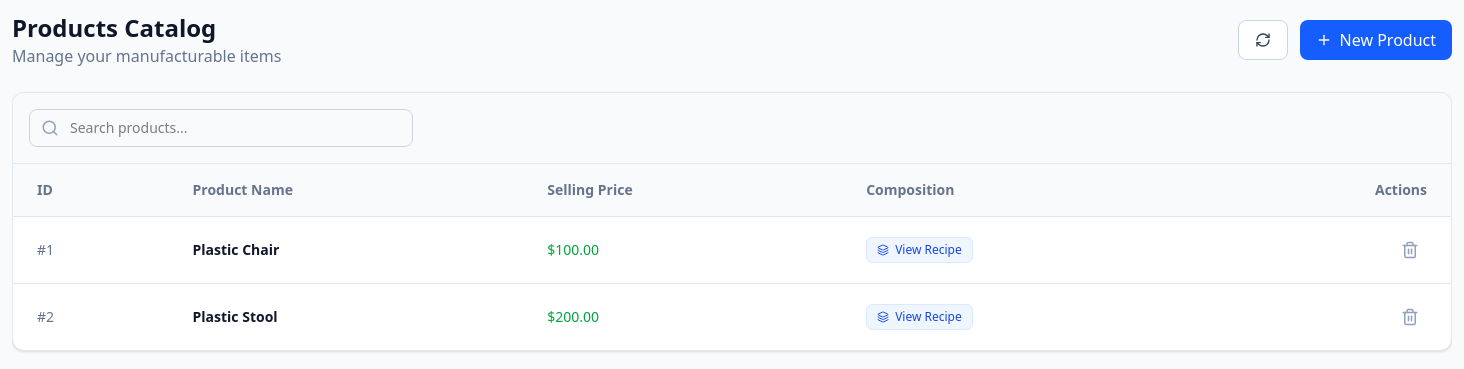
Test case: ProductsList Integration › should filter products when searching
Type "Chair" into the field with placeholder "Search products..." at (221, 128), box [29, 109, 413, 147]
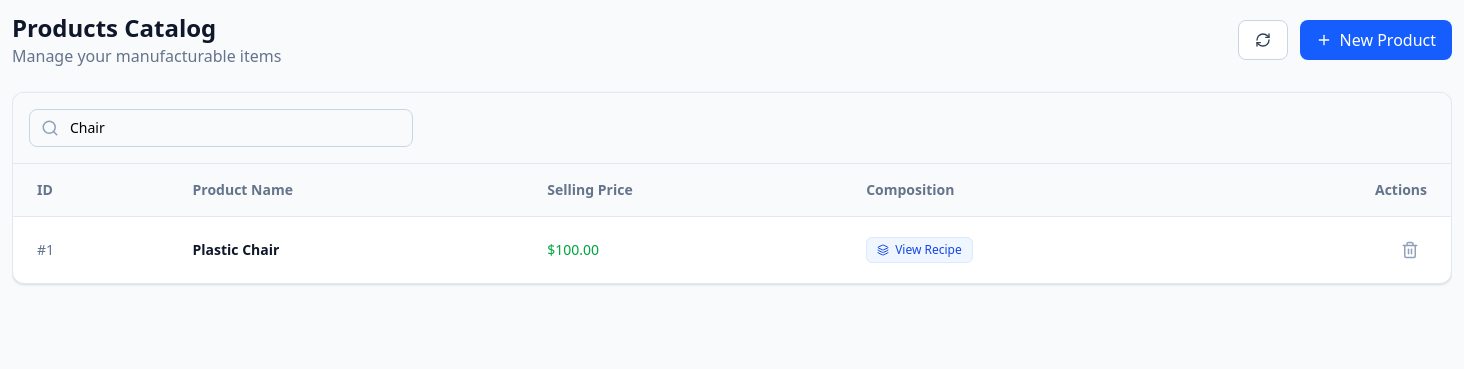
Expected: the text "Plastic Chair" is shown, [168, 216, 523, 283]
Expected: the text "Plastic Stool" is gone
